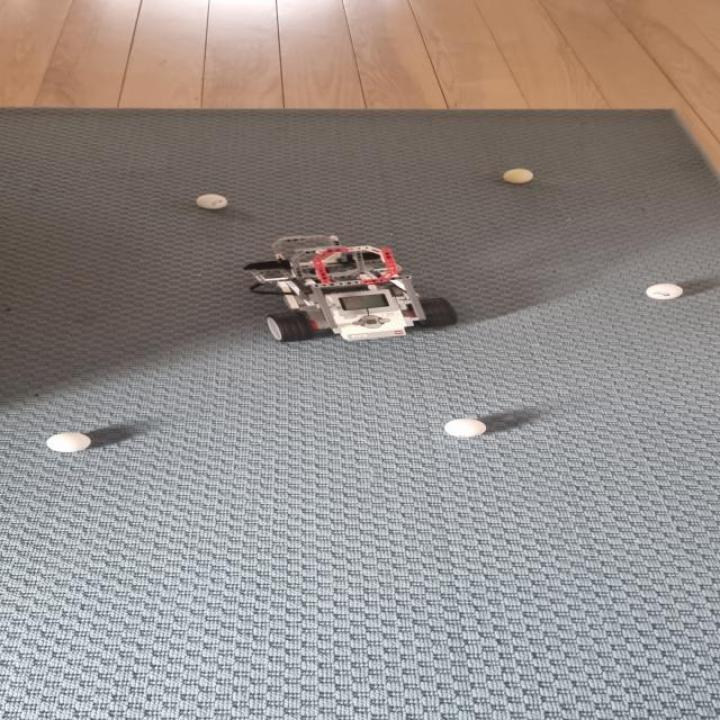robot: (241, 234, 459, 342)
white: (46, 433, 90, 452), (444, 419, 486, 438), (647, 284, 685, 300), (501, 169, 534, 184), (197, 194, 227, 210)
